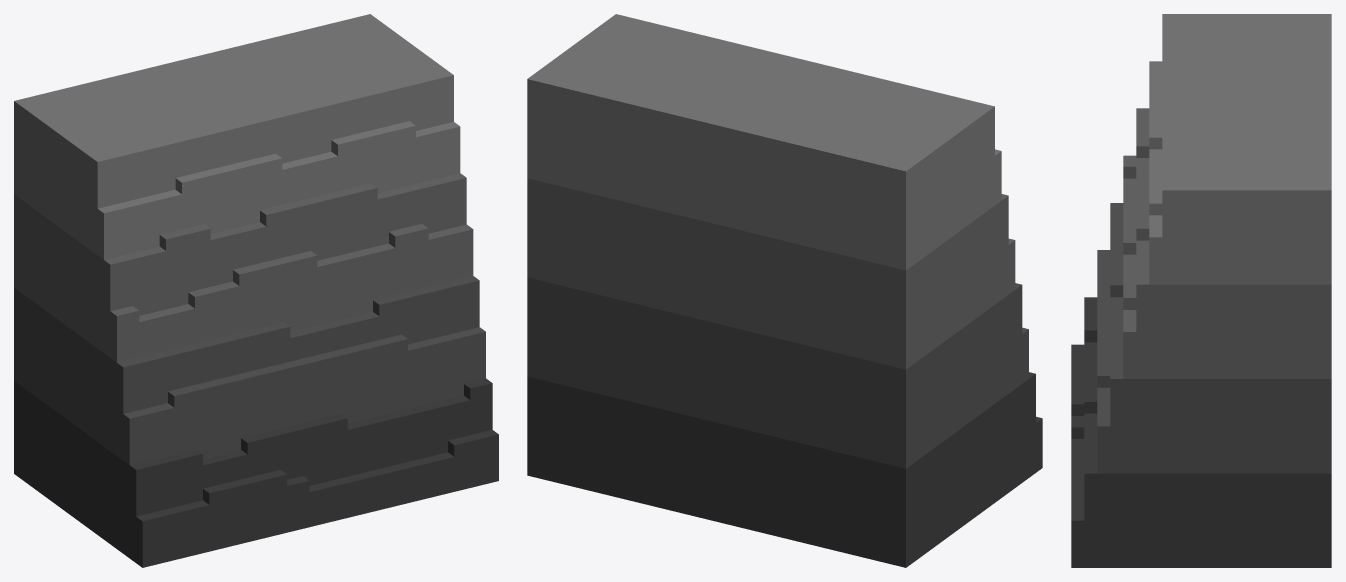
File: mountain-side-4.gltf
The picture shows the model from 3 angles, left to right: view 1: azimuth 30°, elevation 25°; view 2: azimuth 150°, elevation 25°; view 3: azimuth 270°, elevation 25°; orthographic projection. The views are drawn at different scales.
Visible parts, largest first — view 1: mountain-side-4; view 2: mountain-side-4; view 3: mountain-side-4.
Part boxes in pixels (x1,y1,x2,y2): mountain-side-4: [14, 14, 498, 567]; mountain-side-4: [527, 14, 1042, 567]; mountain-side-4: [1071, 14, 1331, 567].
Bounding box in the file's own units: 3.2 × 3.2 × 2.
Materials: 1 (1 with a texture image).
